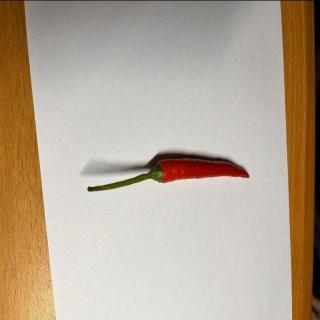Cabai Merah: (88, 159, 250, 193)
